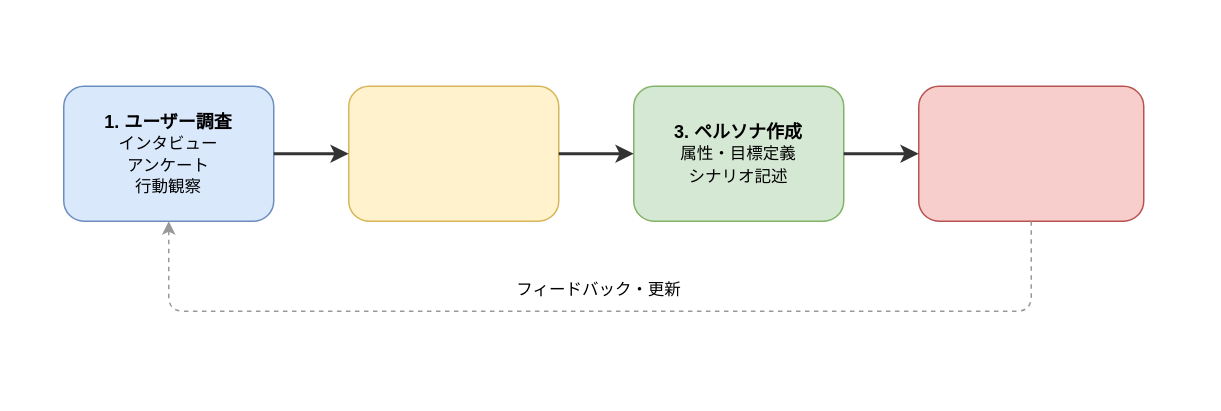
The diagram is 1221 pixels wide and 411 high, and some of its shapes have lost their labels. Each missing label, with the centre of its shape:
"2. データ分析 パターン抽出 ユーザー分類" belongs at [453,153].
"4. 活用・検証 設計・開発で利用 定期的な見直し" belongs at [1030,153].
